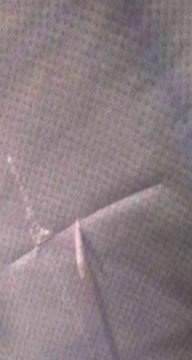snag: (60, 208, 94, 287)
